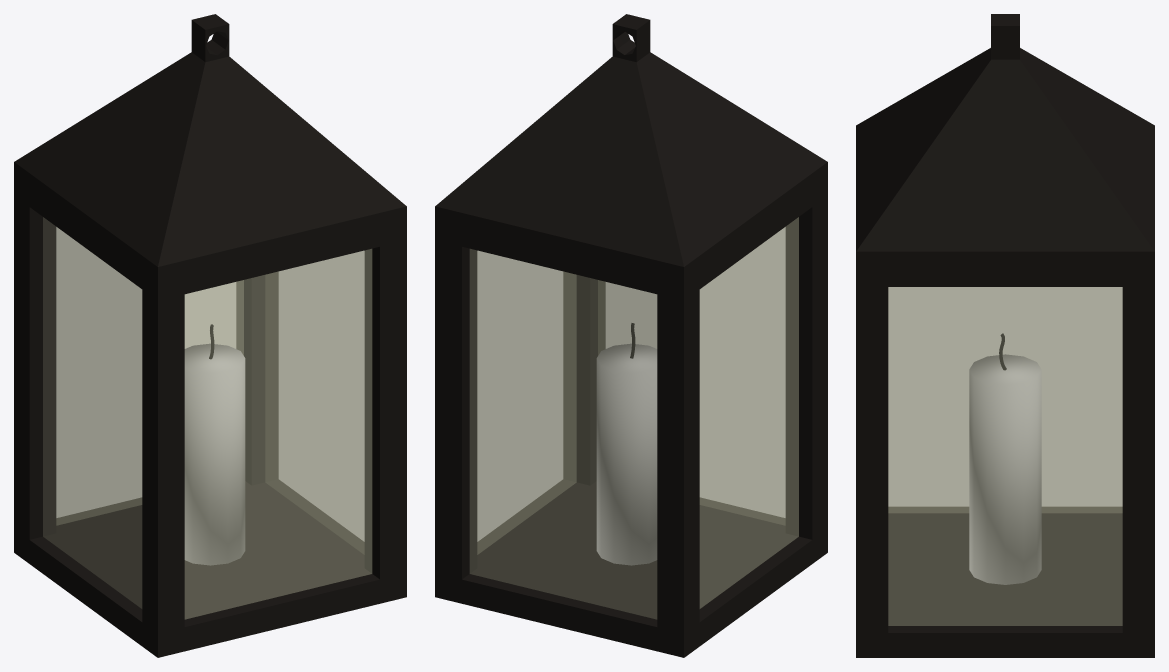
The model's file is Lantern.fbx.
3 views of the same model, side by side, from view 1: azimuth 30°, elevation 25°; view 2: azimuth 150°, elevation 25°; view 3: azimuth 270°, elevation 25° (orthographic). The views are drawn at different scales.
Parts seen in each view (by area): view 1: Lantern, Candle; view 2: Lantern, Candle; view 3: Lantern, Candle.
Part boxes in pixels (x1,y1,x2,y2): Lantern: (14, 14, 406, 657); Candle: (184, 324, 245, 565); Lantern: (435, 14, 827, 657); Candle: (596, 323, 657, 565); Lantern: (856, 14, 1154, 657); Candle: (969, 333, 1041, 584).
Bounding box in the file's own units: 40 × 84.89 × 40.
